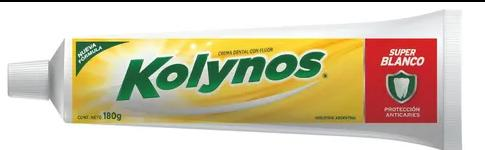brand: (107, 49, 328, 106)
net_weight: (103, 109, 125, 121)
